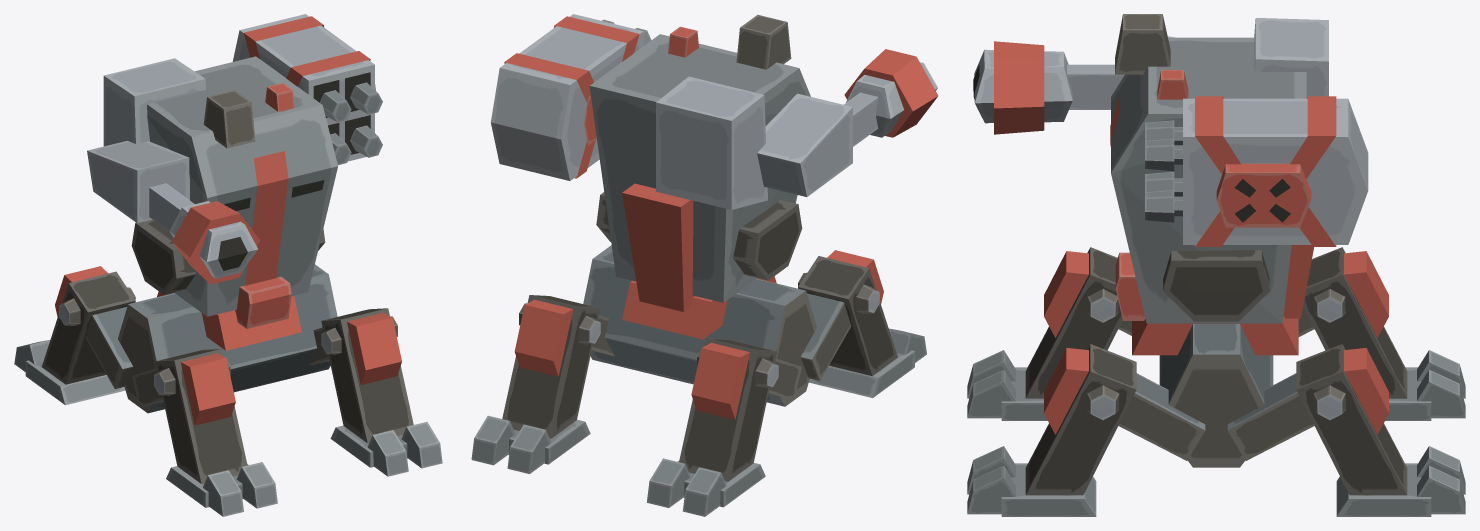
Rendered from machines2.FBX.
3 renders of one model, left to right at view 1: azimuth 30°, elevation 25°; view 2: azimuth 150°, elevation 25°; view 3: azimuth 270°, elevation 25°, orthographic. The views are drawn at different scales.
Parts seen in each view (by area): view 1: b, machines2, a, c, d, e; view 2: b, machines2, a, c, e, d; view 3: machines2, b, c, a, e, d.
Part boxes in pixels (<box>): b: <box>87,56,337,350</box>; machines2: <box>14,266,442,516</box>; a: <box>85,264,337,413</box>; c: <box>232,14,382,165</box>; d: <box>169,201,258,278</box>; e: <box>172,201,260,284</box>; b: <box>589,14,878,339</box>; machines2: <box>471,250,926,516</box>; a: <box>583,245,851,406</box>; c: <box>490,14,651,180</box>; e: <box>844,49,938,137</box>; d: <box>846,62,937,137</box>; machines2: <box>967,247,1465,516</box>; b: <box>1067,14,1328,355</box>; c: <box>1144,96,1368,246</box>; a: <box>1118,307,1314,467</box>; e: <box>994,41,1044,134</box>; d: <box>973,49,1072,123</box>.
Size of the model in its own units: 83.09 by 107 by 97.64.
